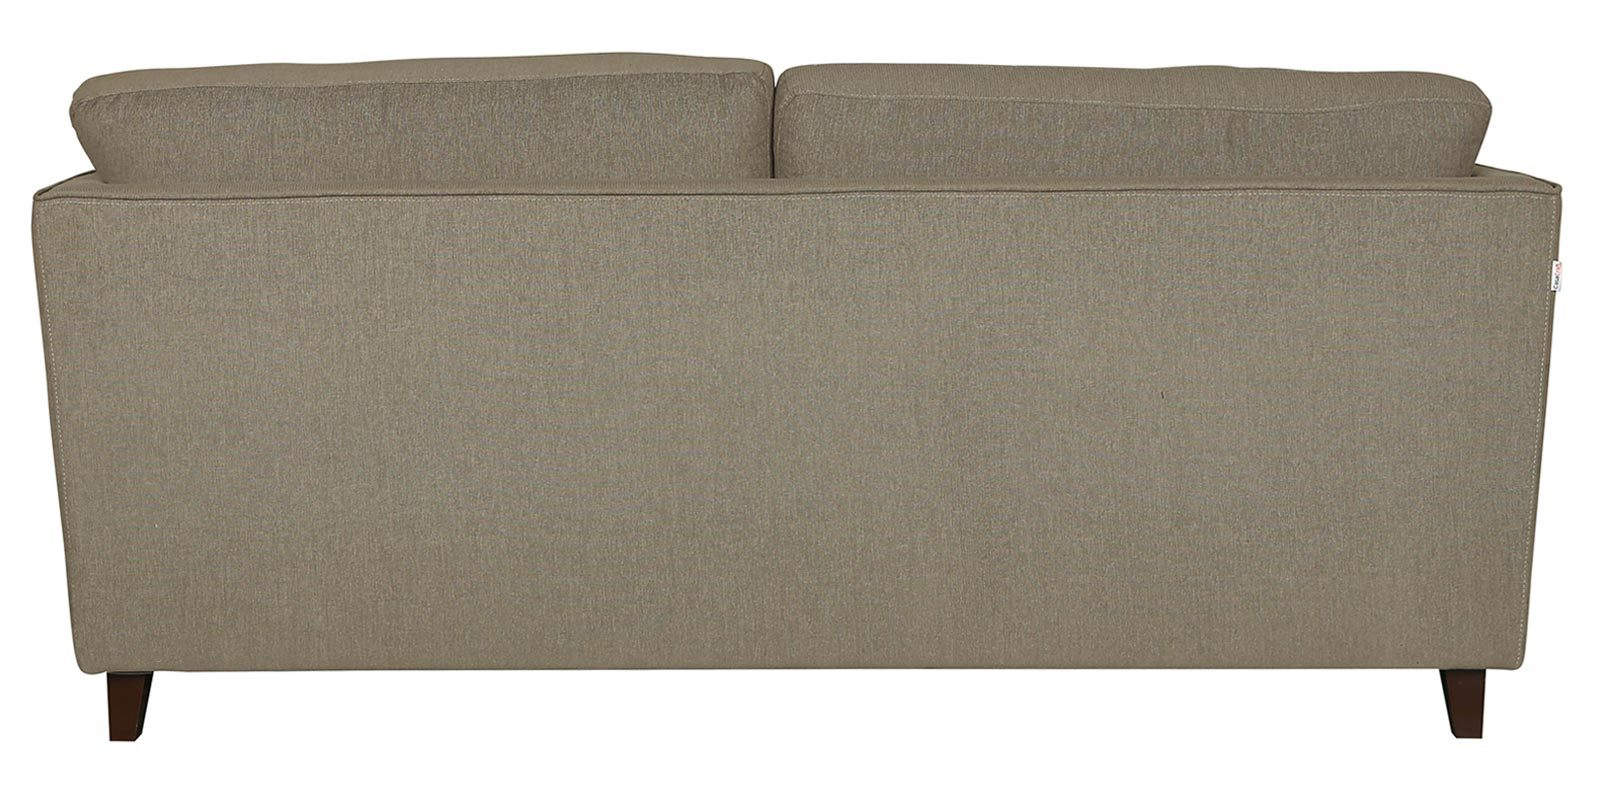Miranda Three Seater Sofa in Sandy Brown Colour by CasaCraft: (28, 52, 1564, 741)
